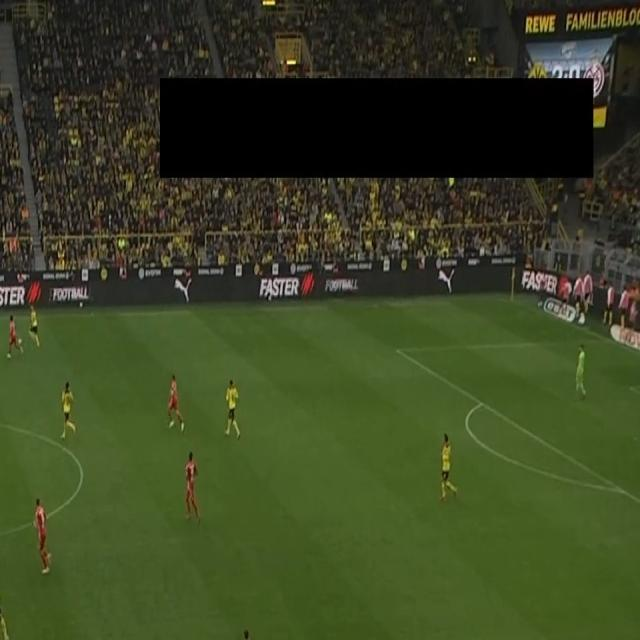ball: (18, 337, 22, 346)
